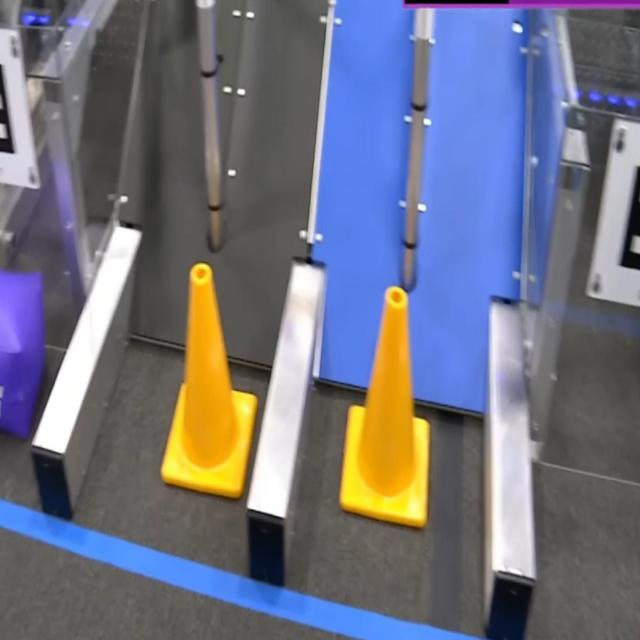frc_cone: (161, 264, 255, 497), (341, 285, 428, 526)
frc_cube: (0, 265, 43, 434)
